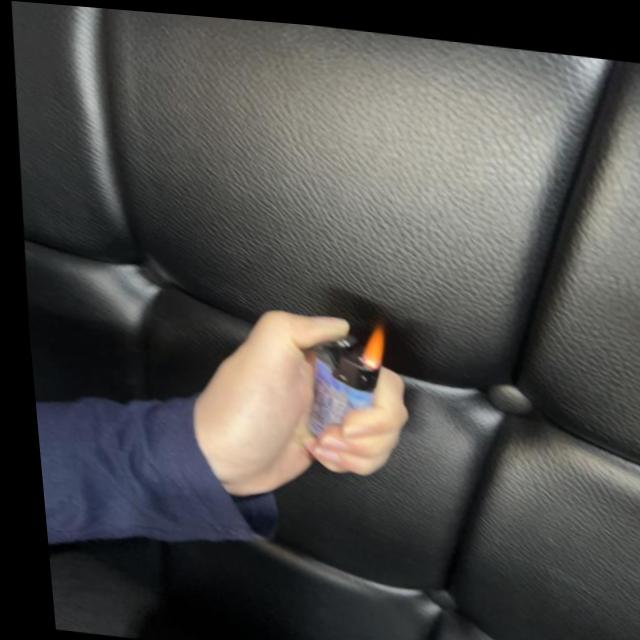Fire: (351, 319, 384, 366)
